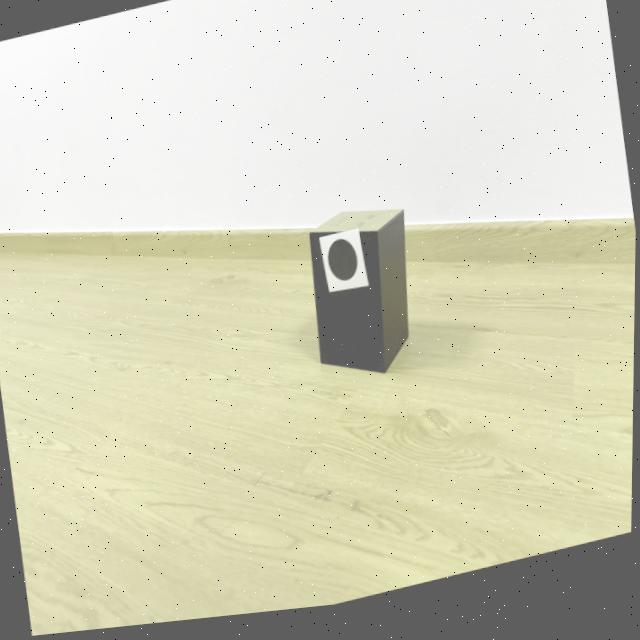CIRCLE: (329, 246, 359, 289)
